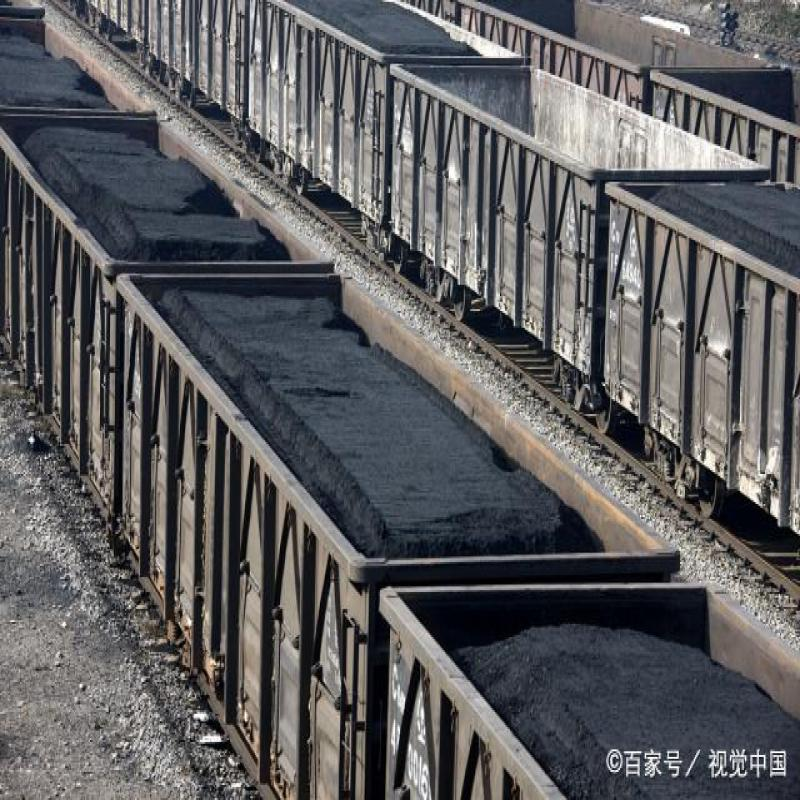train: (395, 29, 629, 385)
